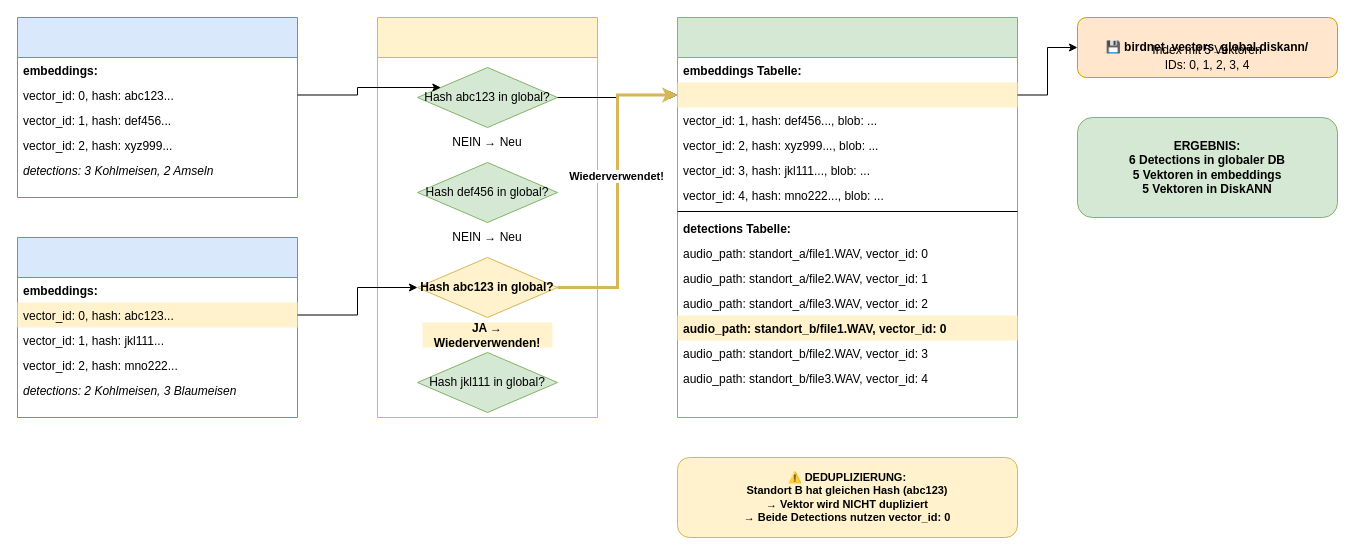
The diagram is 1355 pixels wide and 555 high, and some of its shapes have lost their labels. Each missing label, with the box of its shape:
vector_id: 0, hash: abc123..., blob: ...: (677, 82, 1017, 107)
🌍 birdnet_global.db: (676, 16, 1018, 418)
📁 Standort A: (16, 16, 298, 198)
📁 Standort B: (16, 236, 298, 418)
🔄 Import-Prozess: (376, 16, 598, 418)
